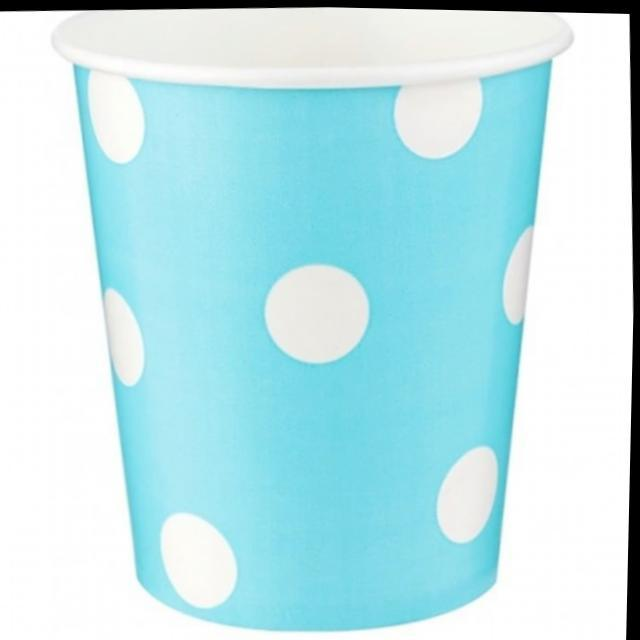cup: (25, 1, 597, 640)
